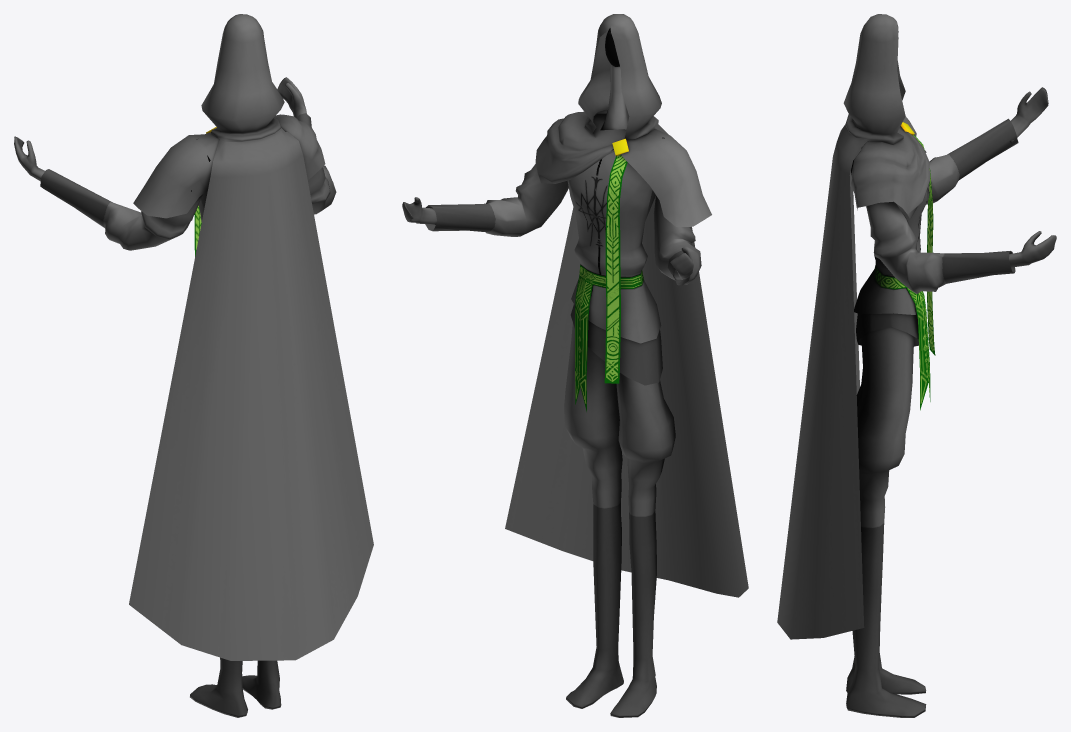
Rendered from maya_Soldier.fbx.
The picture shows the model from 3 angles, left to right: view 1: azimuth 30°, elevation 25°; view 2: azimuth 150°, elevation 25°; view 3: azimuth 270°, elevation 25°; orthographic projection.
Parts seen in each view (by area): view 1: maya_Soldier; view 2: maya_Soldier; view 3: maya_Soldier.
Boxes of the visible parts, <box> form: maya_Soldier: <box>14,14,373,717</box>; maya_Soldier: <box>402,14,748,717</box>; maya_Soldier: <box>777,14,1056,717</box>.
Bounding box in the file's own units: 500 × 1143 × 423.
